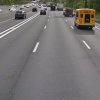Bus: (72, 4, 95, 30)
